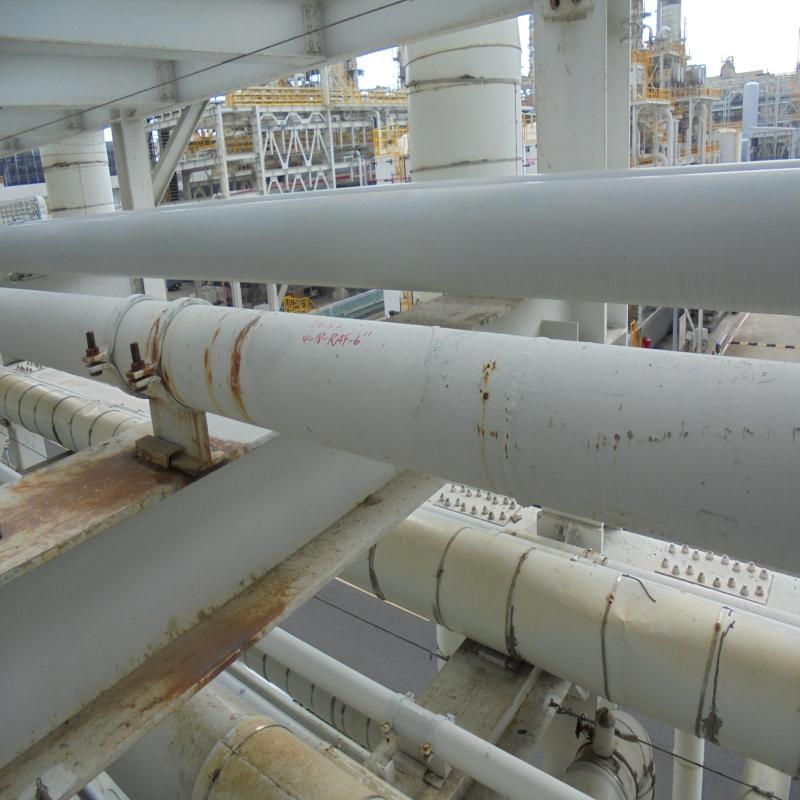corrosion: (232, 346, 245, 395)
